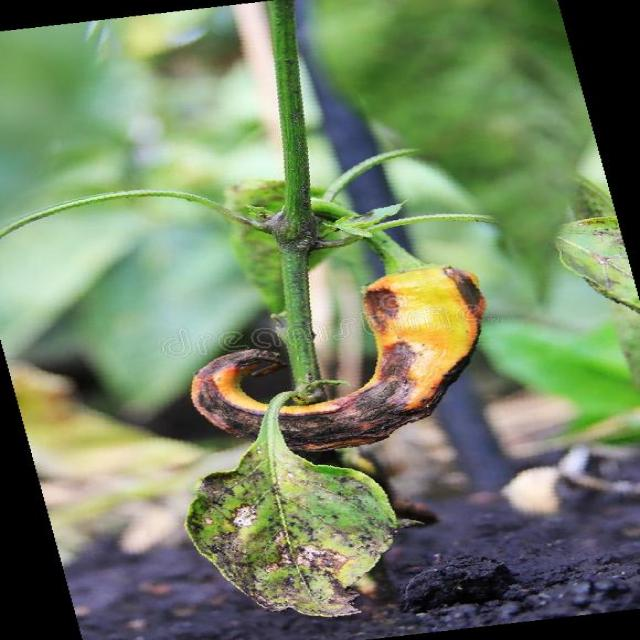Chili_anthracnose: (148, 211, 535, 478)
